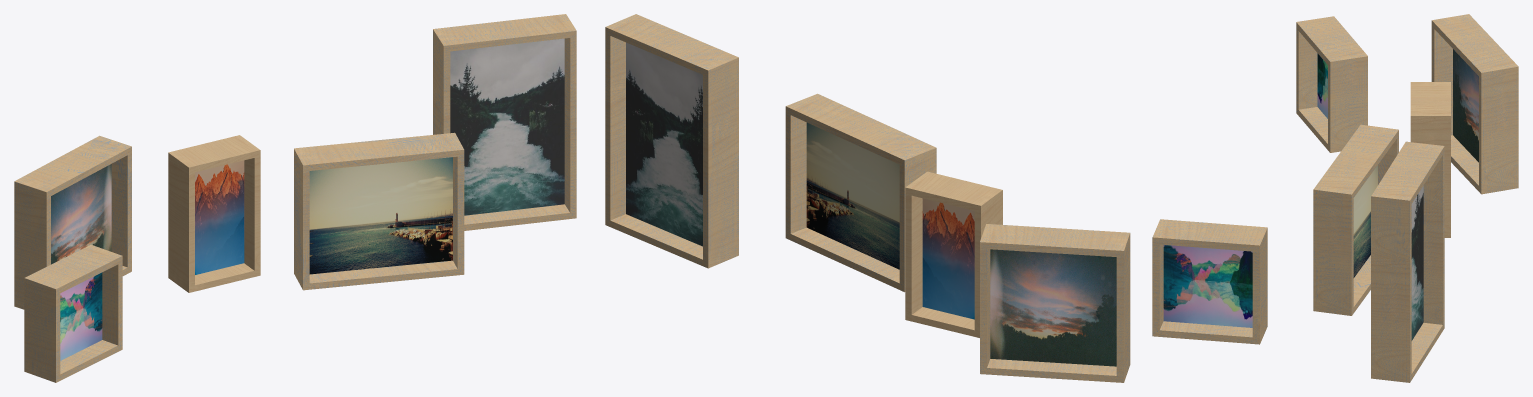
3 renders of one model, left to right at view 1: azimuth 30°, elevation 25°; view 2: azimuth 150°, elevation 25°; view 3: azimuth 270°, elevation 25°, orthographic. The views are drawn at different scales.
Visible parts, largest first — view 1: image_4, image_3, group_8 (×2), group_9 (×2), group_6 (×2), group_4 (×2), group_2 (×2), image_0, image_2, image_1; view 2: group_9 (×2), image_2, image_4, group_8 (×2), image_3, group_6 (×2), group_4 (×2), group_2 (×2), image_1, image_0; view 3: group_9 (×2), group_6 (×2), group_8 (×2), group_4 (×2), group_2, image_2, image_4, image_3, image_1.
Part boxes in pixels (<box>): image_4: <box>450,38,564,215</box>; image_3: <box>309,157,452,274</box>; group_8 (×2): <box>294,132,464,290</box>; group_9 (×2): <box>433,14,576,230</box>; group_6 (×2): <box>14,135,131,309</box>; group_4 (×2): <box>24,244,122,382</box>; group_2 (×2): <box>168,135,260,292</box>; image_0: <box>195,160,244,274</box>; image_2: <box>51,164,111,264</box>; image_1: <box>60,272,102,360</box>; group_9 (×2): <box>605,14,738,268</box>; image_2: <box>990,249,1116,366</box>; image_4: <box>626,42,702,246</box>; group_8 (×2): <box>785,93,936,292</box>; image_3: <box>806,122,899,269</box>; group_6 (×2): <box>980,224,1130,382</box>; group_4 (×2): <box>1152,219,1267,344</box>; group_2 (×2): <box>905,171,1002,337</box>; image_1: <box>1163,245,1252,327</box>; image_0: <box>922,198,974,319</box>; group_9 (×2): <box>1371,141,1444,382</box>; group_6 (×2): <box>1431,14,1518,194</box>; group_8 (×2): <box>1313,124,1398,315</box>; group_4 (×2): <box>1296,16,1367,152</box>; group_2: <box>1410,82,1450,237</box>; image_2: <box>1453,49,1478,162</box>; image_4: <box>1411,185,1423,340</box>; image_3: <box>1353,165,1377,277</box>; image_1: <box>1317,53,1327,118</box>.
Bounding box in the file's own units: 19.15 × 6.53 × 5.91.
7 materials, 6 textured.
